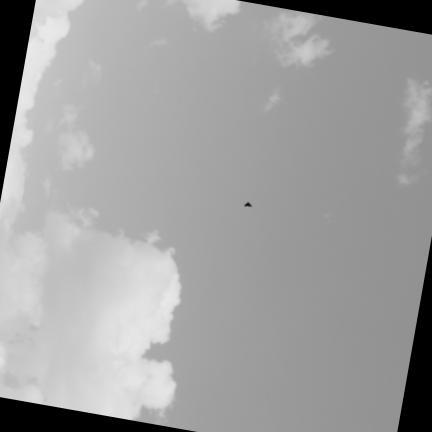Shahed: (244, 203, 251, 208)
